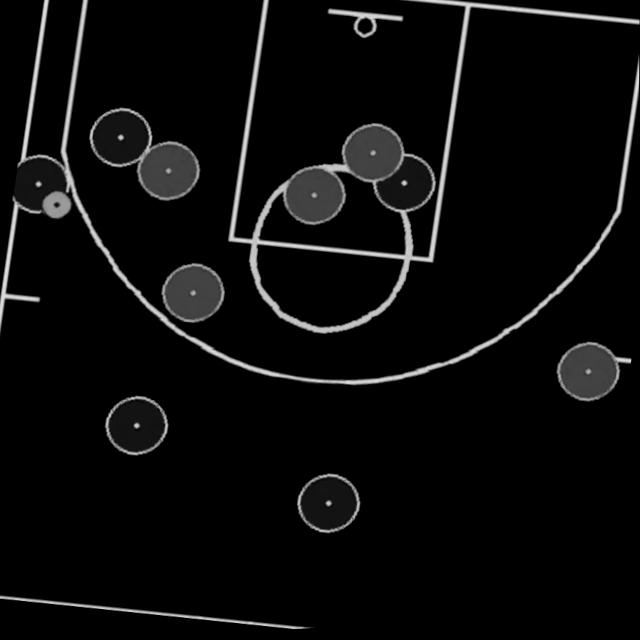Basketball: (42, 192, 74, 222)
Team_A: (89, 109, 152, 168), (298, 476, 361, 535), (106, 397, 169, 456), (374, 158, 436, 217), (13, 155, 70, 214)
Team_B: (557, 346, 620, 406), (137, 143, 200, 202), (162, 265, 225, 324), (283, 169, 346, 228), (342, 127, 404, 185)
